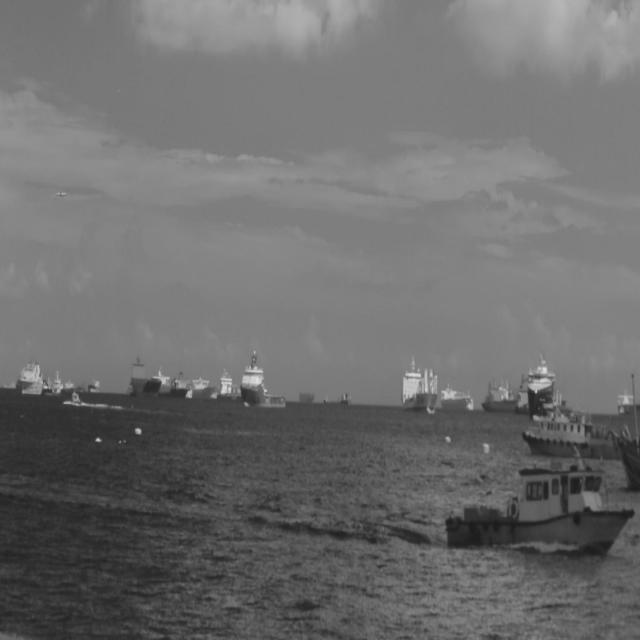buoy: (134, 426, 142, 436)
ship: (444, 458, 634, 552), (522, 385, 620, 459), (240, 345, 286, 408), (528, 348, 568, 420), (401, 353, 438, 414), (126, 354, 162, 398), (481, 371, 518, 412), (618, 429, 639, 493), (440, 379, 474, 412), (183, 372, 218, 400), (217, 363, 241, 401), (166, 362, 190, 397), (618, 386, 640, 416), (322, 392, 352, 408), (50, 368, 64, 396), (88, 376, 101, 394), (70, 389, 82, 407)
